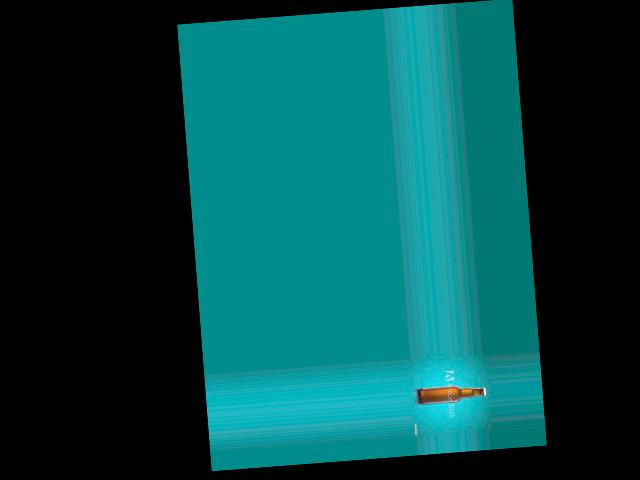beer: (417, 383, 486, 405)
